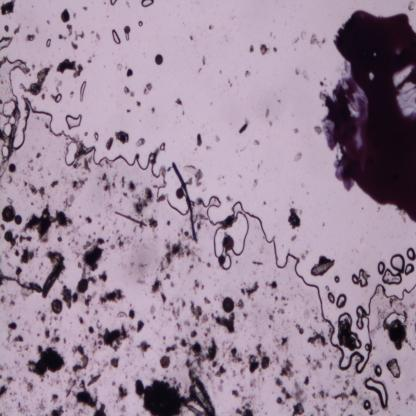Air bubble: (21, 98, 74, 152), (213, 204, 254, 251), (0, 56, 31, 97), (364, 377, 391, 411), (1, 97, 17, 137), (200, 192, 223, 219), (381, 310, 407, 328), (355, 304, 370, 330), (382, 268, 403, 286), (351, 269, 369, 288), (66, 112, 83, 130), (390, 254, 405, 274), (66, 142, 78, 166), (114, 131, 130, 145), (0, 35, 13, 51), (351, 332, 363, 348), (338, 311, 352, 324), (336, 293, 347, 309), (223, 252, 232, 270), (112, 28, 122, 44), (405, 247, 416, 261), (404, 263, 415, 276), (80, 81, 86, 103), (1, 145, 10, 159), (54, 92, 64, 104), (140, 0, 155, 7), (375, 364, 383, 376), (326, 292, 334, 303), (158, 142, 166, 152), (364, 342, 372, 352), (94, 132, 100, 142), (46, 37, 51, 48), (109, 0, 118, 6), (364, 400, 370, 409), (125, 32, 130, 42), (334, 276, 340, 284), (138, 19, 142, 28)
Background material: (270, 356, 308, 416), (133, 376, 189, 416), (75, 236, 110, 284), (40, 248, 69, 298), (62, 377, 99, 416), (186, 337, 218, 380), (22, 203, 54, 244), (24, 345, 66, 375), (0, 269, 42, 295), (21, 62, 51, 96), (97, 326, 133, 352), (6, 319, 30, 358), (158, 238, 184, 272), (246, 340, 270, 376), (337, 319, 360, 349), (44, 314, 67, 344), (98, 287, 126, 311), (220, 338, 245, 364), (210, 310, 237, 334), (69, 342, 89, 373), (133, 186, 155, 214), (369, 303, 387, 336), (56, 57, 84, 78), (116, 210, 147, 228), (387, 320, 405, 350), (184, 164, 206, 187), (51, 207, 73, 228), (101, 170, 118, 197), (235, 395, 255, 416), (168, 297, 186, 320), (272, 294, 290, 314), (76, 142, 96, 160), (288, 207, 303, 230), (308, 330, 327, 348), (240, 281, 258, 299), (386, 358, 400, 380), (185, 244, 201, 263), (60, 284, 72, 309), (145, 217, 159, 238), (116, 232, 132, 249), (17, 377, 34, 393), (71, 177, 88, 193), (62, 192, 77, 210), (190, 300, 202, 322), (236, 115, 249, 135), (0, 0, 16, 16), (220, 214, 236, 230), (136, 341, 151, 358), (115, 382, 127, 403), (309, 34, 325, 49), (94, 402, 110, 416), (174, 98, 186, 116), (194, 213, 207, 229), (36, 397, 49, 413), (22, 248, 35, 264), (0, 157, 9, 180), (17, 402, 31, 416), (171, 376, 184, 391), (314, 403, 329, 416), (151, 277, 162, 294), (312, 390, 330, 400), (294, 67, 308, 79), (142, 81, 154, 95), (60, 7, 70, 23), (134, 137, 147, 149), (136, 262, 149, 274), (310, 357, 322, 370), (165, 342, 178, 354), (136, 319, 146, 334), (105, 135, 115, 150), (198, 55, 206, 73), (68, 226, 80, 238), (215, 365, 226, 378), (51, 405, 64, 416), (280, 336, 290, 350), (84, 156, 92, 173), (83, 294, 92, 309), (0, 385, 9, 400), (331, 393, 350, 400), (154, 191, 166, 202), (109, 356, 120, 368), (23, 287, 35, 298), (124, 85, 135, 97), (260, 43, 270, 56), (19, 236, 32, 246), (204, 322, 212, 338), (29, 182, 38, 196), (125, 65, 134, 79), (186, 262, 196, 274), (272, 337, 282, 349), (75, 30, 85, 42), (127, 320, 137, 332), (0, 247, 10, 259), (13, 23, 23, 35), (218, 376, 225, 392), (378, 261, 386, 275), (266, 280, 278, 289), (254, 259, 266, 268), (196, 132, 203, 147), (38, 187, 46, 200), (314, 124, 322, 137), (318, 255, 329, 264), (293, 152, 302, 163), (4, 376, 13, 387), (151, 149, 158, 163), (367, 409, 381, 416), (54, 80, 62, 92), (273, 353, 281, 365), (304, 352, 311, 365), (104, 158, 113, 168), (231, 389, 241, 398), (26, 33, 36, 42), (235, 299, 244, 309), (295, 324, 304, 334), (175, 321, 183, 332), (201, 313, 209, 324), (66, 25, 74, 36), (128, 180, 136, 191), (72, 248, 83, 256), (135, 276, 146, 284), (50, 179, 61, 187), (72, 292, 80, 303), (105, 202, 112, 214), (265, 106, 272, 118), (160, 290, 166, 304), (409, 392, 416, 404), (180, 338, 188, 348), (128, 308, 136, 318), (408, 0, 416, 10), (338, 406, 346, 416), (301, 29, 308, 40), (240, 367, 247, 378), (0, 365, 11, 372), (38, 161, 44, 173), (173, 363, 181, 372), (250, 376, 256, 388), (6, 260, 14, 269), (55, 375, 61, 387), (350, 389, 359, 397), (400, 302, 409, 310), (16, 267, 24, 276), (214, 294, 224, 301), (161, 305, 171, 312), (390, 298, 397, 308), (52, 394, 59, 404), (76, 157, 82, 168), (396, 390, 402, 401), (15, 247, 21, 258), (0, 292, 6, 303), (150, 181, 158, 189), (236, 384, 244, 392), (124, 0, 132, 8), (121, 174, 125, 190), (405, 340, 413, 348), (198, 255, 205, 264), (71, 41, 78, 50), (151, 303, 156, 315), (228, 77, 233, 89), (78, 315, 84, 325), (92, 339, 96, 354), (343, 380, 349, 390), (190, 330, 198, 337), (252, 139, 260, 146), (240, 146, 248, 153), (203, 298, 211, 305), (56, 235, 63, 243), (310, 307, 318, 314), (320, 354, 328, 361), (227, 194, 234, 202), (409, 302, 416, 310), (204, 142, 210, 151), (258, 243, 264, 252), (242, 311, 248, 320), (244, 68, 250, 77), (249, 42, 254, 52), (97, 320, 102, 330), (28, 158, 33, 168), (293, 127, 300, 134), (88, 326, 94, 334), (214, 134, 220, 142), (170, 280, 176, 288), (121, 405, 127, 413), (136, 100, 142, 108), (95, 33, 101, 41), (6, 198, 14, 204), (70, 91, 76, 99), (268, 314, 274, 322), (117, 64, 123, 72), (131, 225, 137, 233), (0, 222, 6, 230), (66, 368, 72, 376), (86, 216, 92, 224), (14, 234, 20, 242), (40, 314, 46, 322), (38, 376, 44, 384), (22, 168, 28, 176), (104, 360, 110, 368), (329, 360, 333, 372), (194, 280, 199, 289), (9, 299, 14, 308), (36, 248, 40, 259), (299, 294, 305, 301), (150, 366, 156, 373), (291, 235, 297, 242), (184, 320, 190, 327), (272, 46, 278, 53), (82, 5, 89, 11), (165, 274, 172, 280), (189, 34, 195, 41), (130, 261, 136, 268), (252, 180, 257, 188), (305, 324, 313, 329), (258, 158, 262, 168), (8, 175, 13, 183), (40, 92, 45, 100), (174, 336, 180, 342), (111, 380, 117, 386), (152, 106, 156, 115), (198, 197, 202, 206), (124, 346, 130, 352), (14, 360, 20, 366), (5, 345, 11, 351), (76, 372, 80, 381), (61, 174, 67, 180), (58, 279, 64, 285), (10, 392, 16, 398), (162, 334, 167, 341), (118, 197, 123, 204), (87, 56, 92, 63), (233, 371, 238, 378), (348, 399, 353, 406), (192, 286, 196, 294), (36, 26, 40, 34), (5, 25, 9, 33), (326, 284, 330, 292), (300, 254, 305, 260), (207, 24, 212, 30), (61, 35, 67, 40), (123, 192, 128, 198), (413, 321, 416, 331), (336, 376, 342, 381), (95, 212, 101, 217), (47, 170, 52, 176), (74, 13, 78, 20), (268, 120, 272, 127), (321, 221, 325, 228), (32, 62, 36, 69), (24, 180, 28, 187), (406, 397, 409, 406), (167, 317, 172, 322), (152, 315, 157, 320), (304, 249, 309, 254), (77, 214, 82, 219), (110, 245, 115, 250), (314, 316, 319, 321), (94, 309, 99, 314), (0, 411, 5, 416), (126, 108, 131, 113), (167, 220, 171, 226), (0, 98, 3, 106), (278, 98, 282, 104), (36, 332, 40, 338), (12, 398, 18, 402), (125, 371, 128, 378), (139, 237, 142, 244), (207, 262, 211, 267), (258, 308, 262, 313), (178, 273, 182, 278), (90, 30, 94, 35), (219, 69, 223, 74), (258, 335, 262, 340), (262, 201, 266, 206), (126, 352, 130, 357), (58, 34, 62, 39), (29, 200, 33, 205), (268, 324, 272, 329), (102, 224, 106, 229), (40, 262, 44, 267), (411, 347, 416, 351), (37, 154, 42, 158), (84, 131, 88, 136), (37, 310, 41, 315), (85, 334, 88, 340), (54, 76, 57, 82), (48, 194, 51, 200), (45, 123, 48, 129), (30, 4, 34, 8), (272, 310, 276, 314), (71, 237, 75, 241), (86, 310, 90, 314), (271, 292, 275, 296), (18, 315, 22, 319), (31, 165, 34, 170), (27, 193, 30, 198), (94, 230, 97, 235), (239, 173, 242, 178), (235, 149, 238, 154), (201, 285, 204, 290), (0, 183, 3, 188), (116, 229, 119, 234), (129, 362, 132, 366), (47, 20, 50, 24), (287, 318, 290, 322), (44, 413, 48, 416), (0, 375, 3, 379), (16, 244, 20, 247), (35, 274, 38, 278), (42, 146, 45, 150), (410, 322, 413, 326), (41, 175, 44, 179), (348, 414, 354, 416), (313, 385, 315, 390), (36, 316, 38, 321), (235, 260, 238, 263), (68, 242, 70, 246), (145, 363, 147, 367), (196, 323, 198, 327), (104, 1, 106, 5), (130, 303, 132, 307), (262, 377, 264, 381), (79, 333, 81, 337), (294, 320, 296, 323), (98, 222, 100, 225), (93, 54, 95, 57), (58, 158, 61, 160), (107, 15, 109, 17), (223, 176, 224, 178)
Cellulose filter fibre: (7, 106, 22, 160)
Cotton: (172, 162, 198, 244)
Diatom: (188, 379, 218, 416), (308, 260, 336, 275), (0, 204, 13, 223), (222, 296, 235, 313), (222, 235, 235, 251), (87, 373, 102, 386), (76, 278, 88, 292), (51, 298, 62, 313), (160, 356, 170, 369), (4, 231, 13, 242), (176, 188, 184, 200), (14, 214, 22, 225), (8, 162, 16, 173), (218, 253, 225, 265), (116, 311, 126, 319), (10, 238, 16, 246), (73, 162, 77, 167)
Pen: (320, 5, 416, 222), (154, 53, 164, 64)
